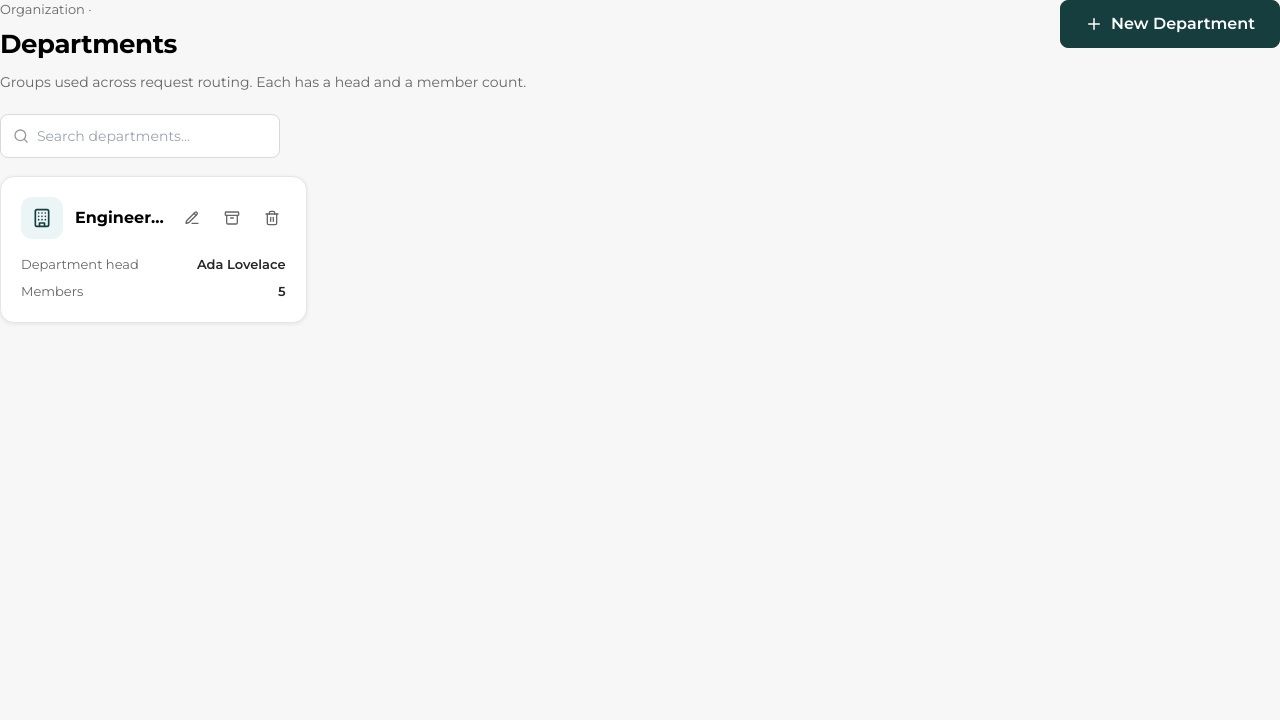
it: Edit prefills the name and saves changes via PUT
Expected: the text "Engineering" is shown, [75, 206, 166, 230]
Click the button named "Edit Engineering" at {"x": 192, "y": 218}, box [178, 204, 206, 232]
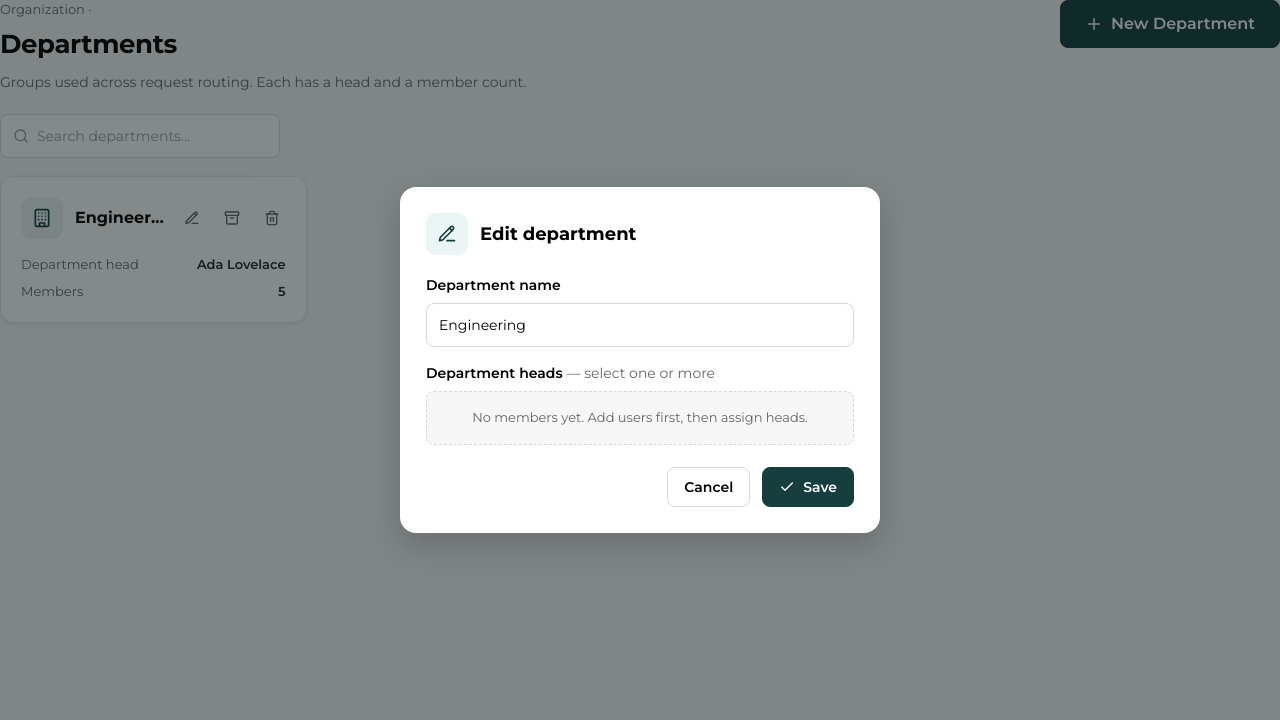
Expected: the text "Engineering" is shown, [75, 206, 166, 230]
Replace the text in the field with placeholder "e.g. Design" with "Engineering Team" at {"x": 640, "y": 325}, box [439, 315, 841, 335]
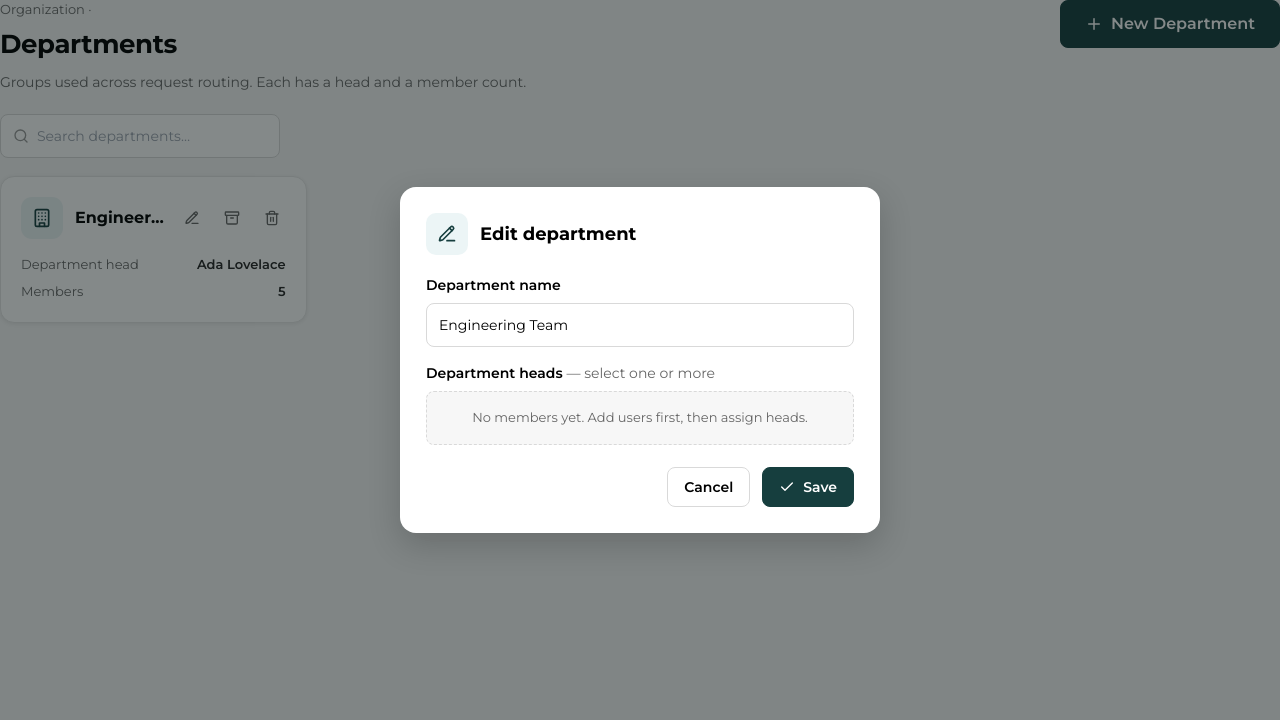
Click the button "Save" at {"x": 808, "y": 487}, box [762, 467, 854, 507]
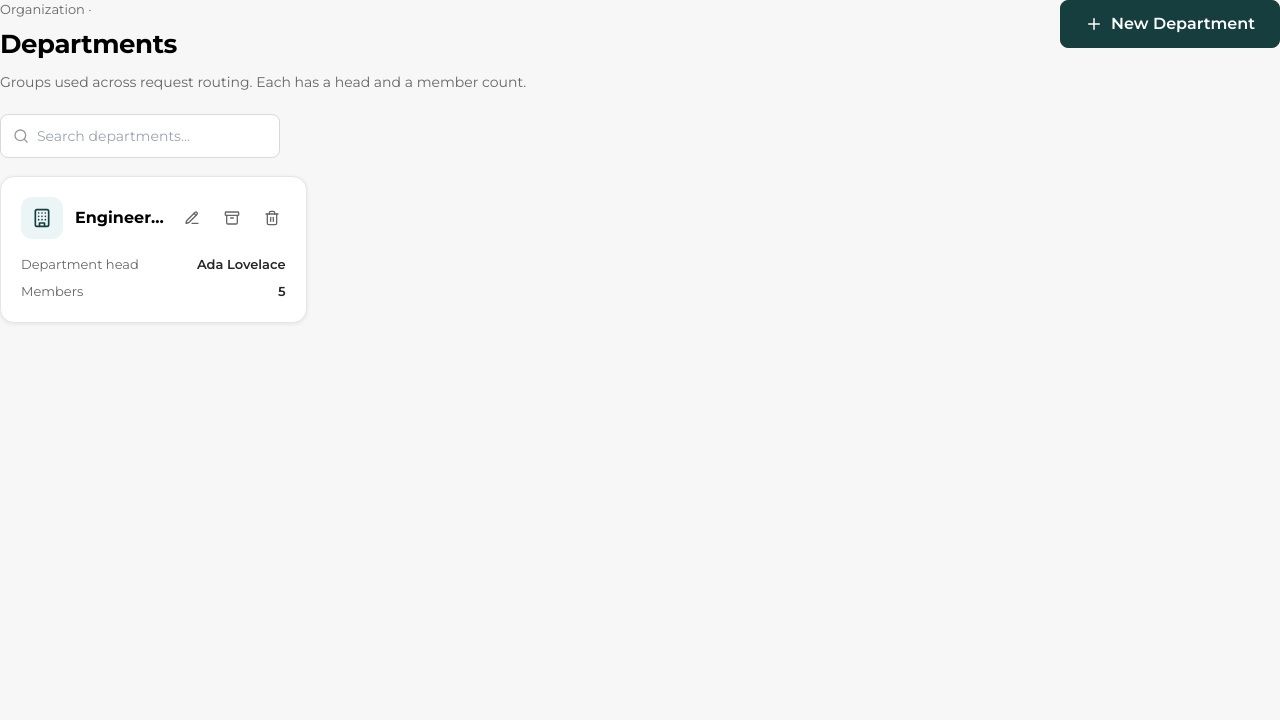
Expected: the text "Engineering Team" is shown, [75, 206, 166, 230]
